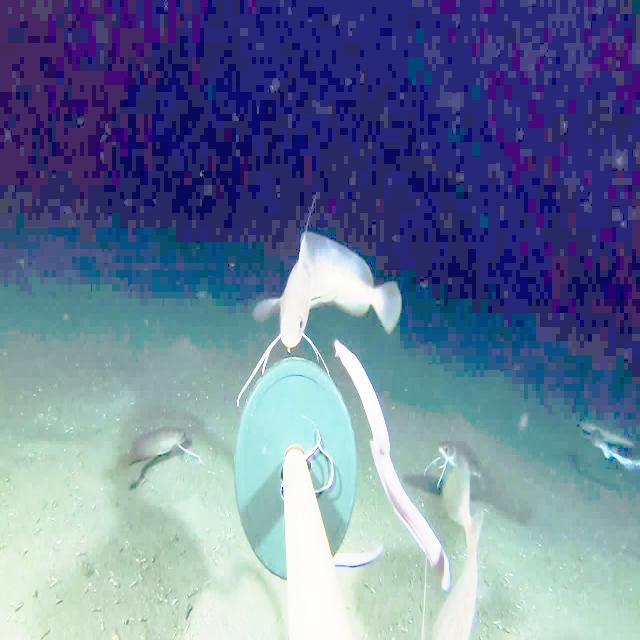eel: (319, 324, 468, 612), (322, 536, 386, 586)
fish: (259, 228, 405, 385), (416, 485, 488, 639), (568, 400, 638, 494), (123, 411, 197, 481), (426, 433, 489, 491)
pole: (240, 396, 347, 557)
